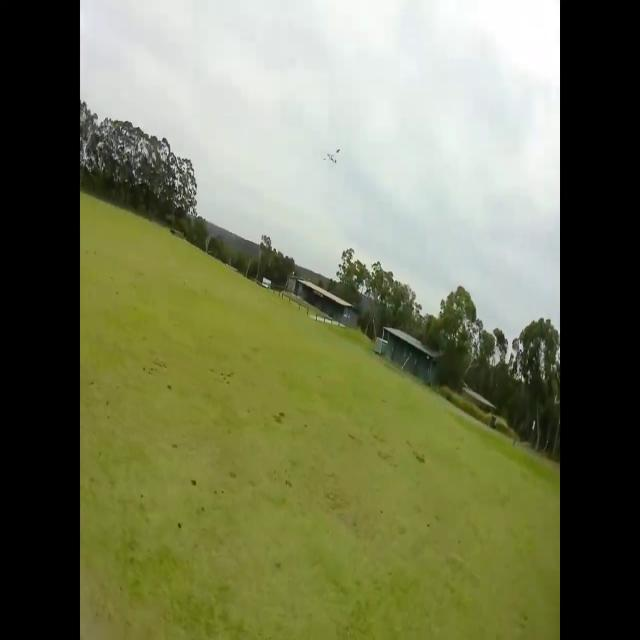iha: (315, 148, 334, 166)
